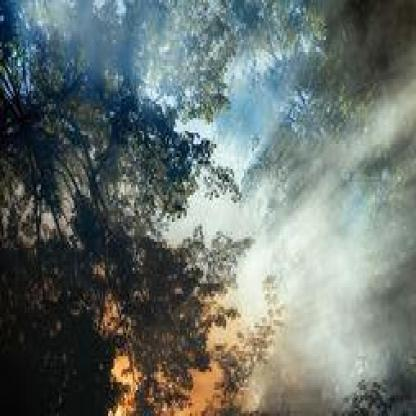fire: (110, 322, 221, 411)
